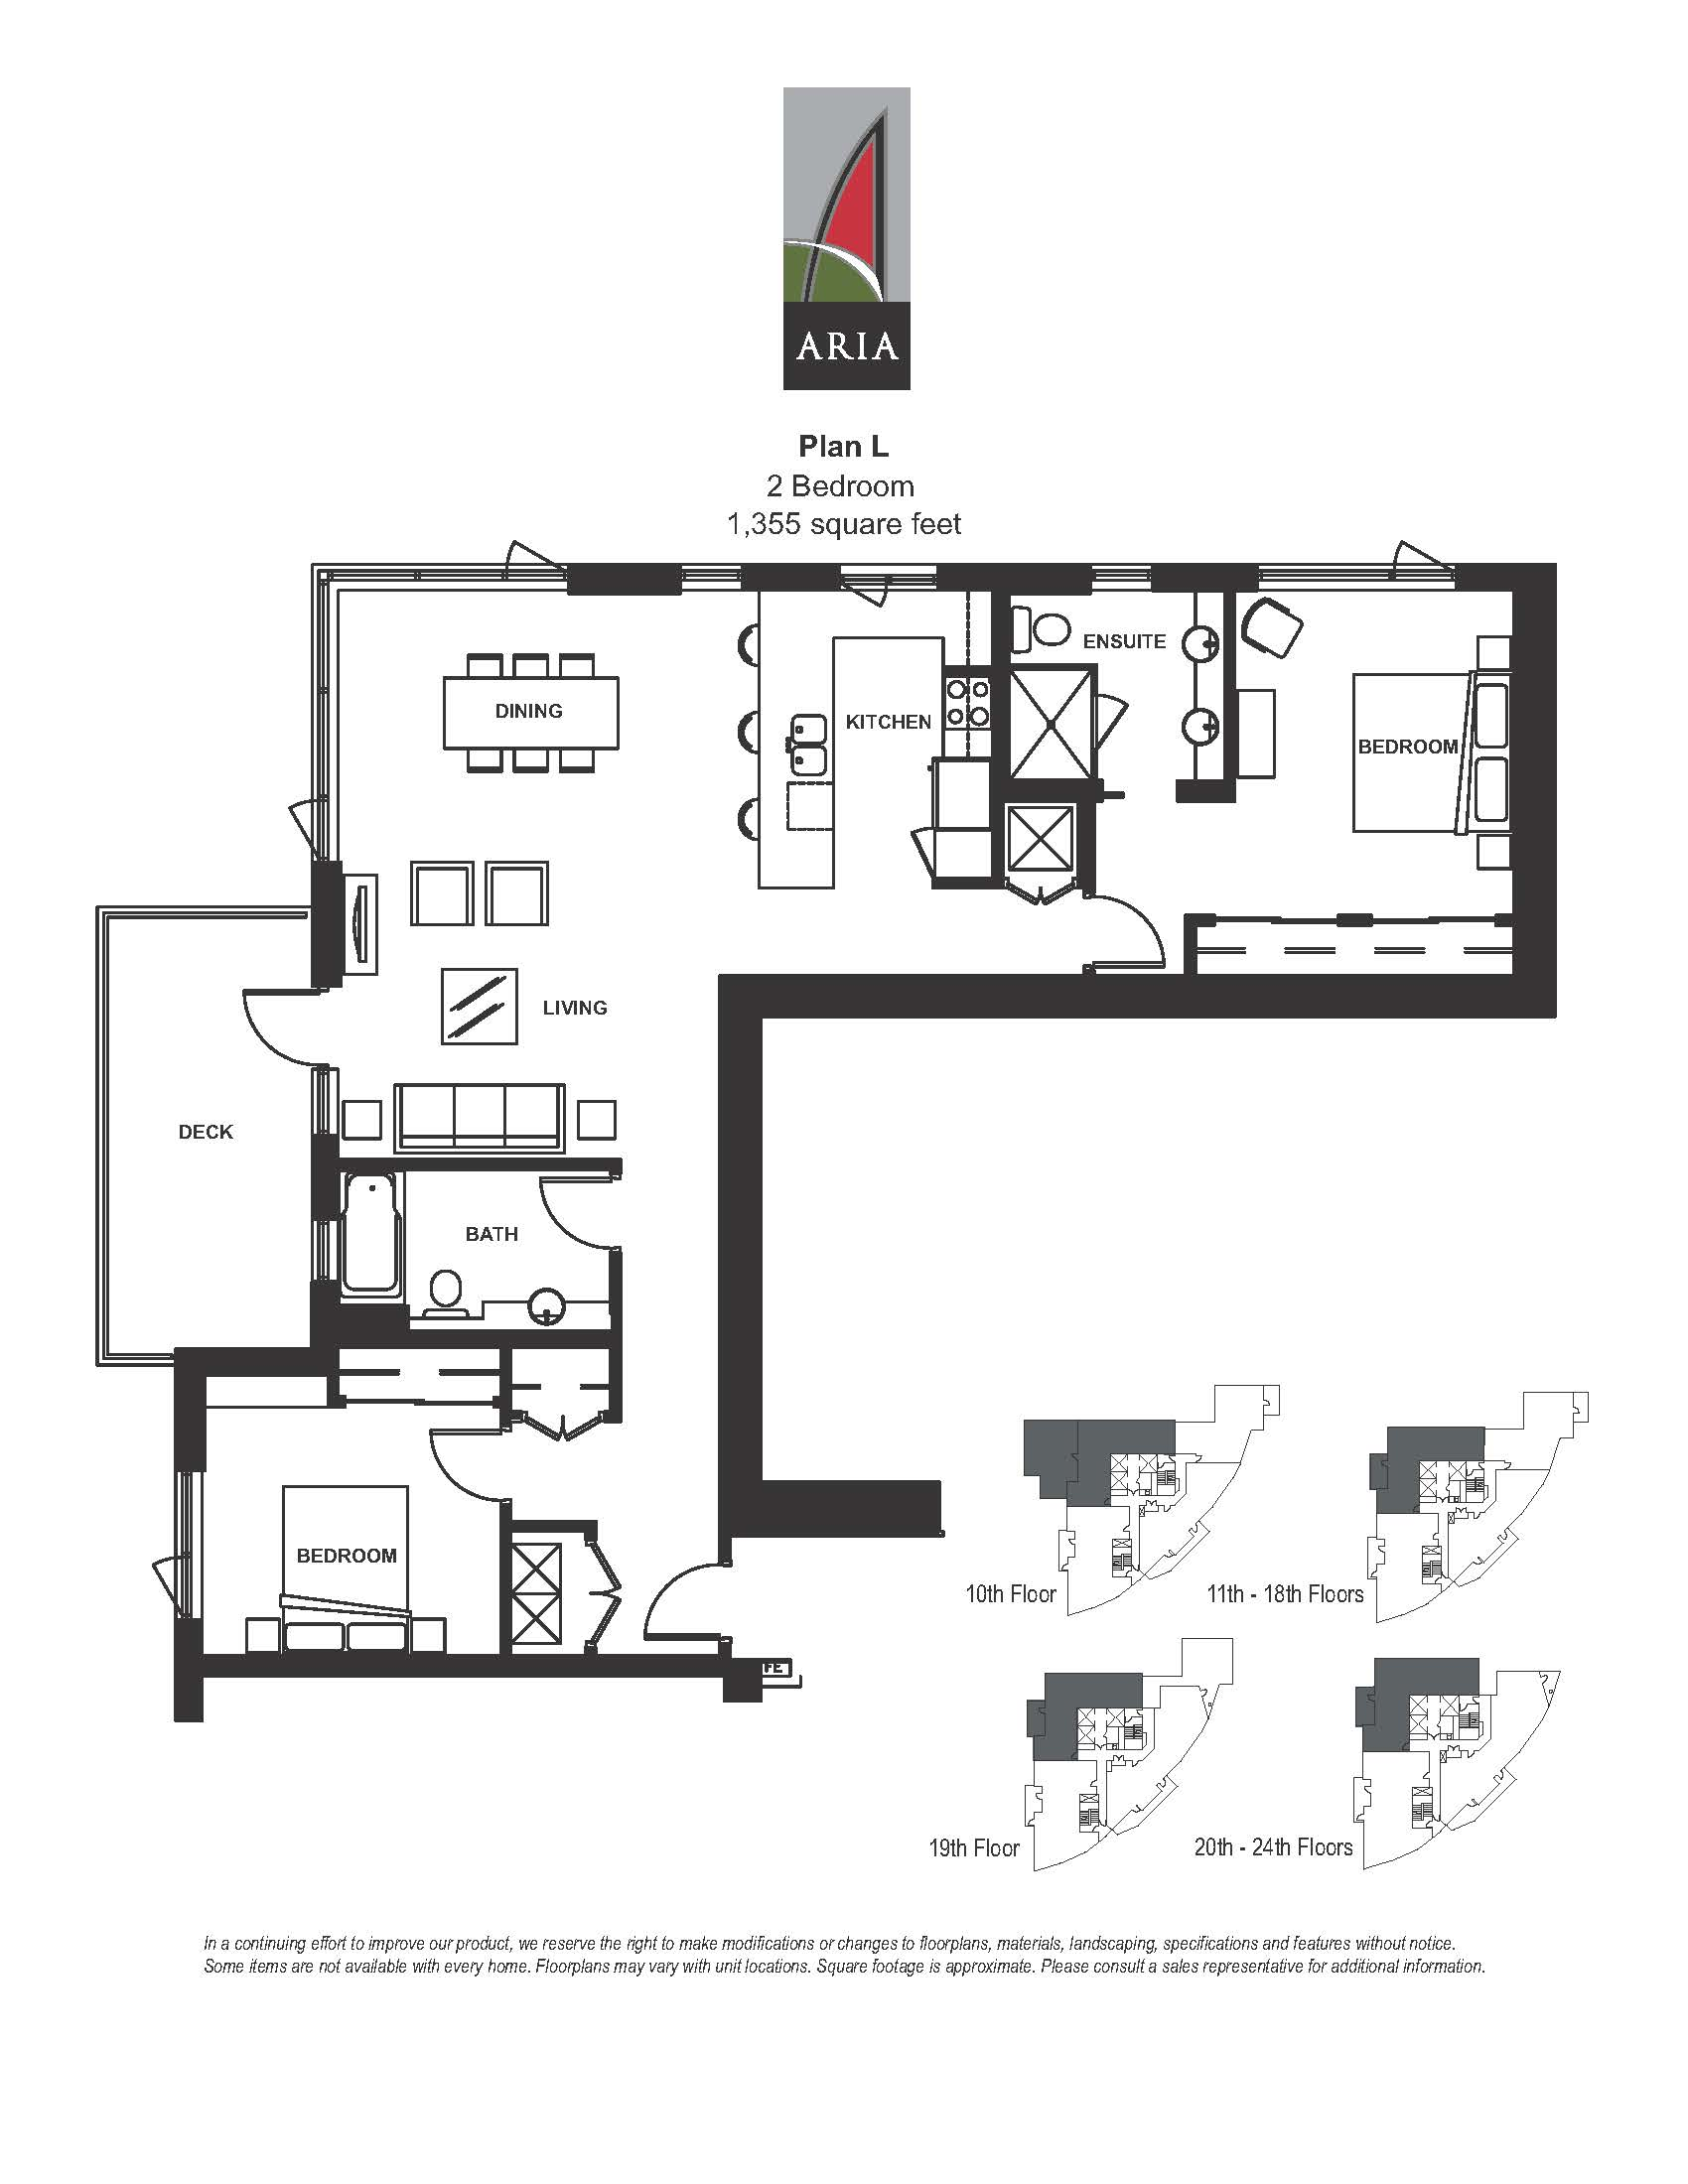wall: (707, 961, 1560, 1025), (700, 984, 777, 1470), (1507, 573, 1582, 994), (684, 1477, 954, 1553), (202, 1652, 725, 1689), (924, 557, 1085, 608), (154, 1340, 342, 1381), (1445, 542, 1557, 601), (564, 557, 663, 617), (170, 1340, 209, 1477), (170, 1608, 216, 1714), (1222, 587, 1243, 807), (746, 553, 846, 594), (1144, 560, 1248, 590), (1174, 771, 1243, 808)
